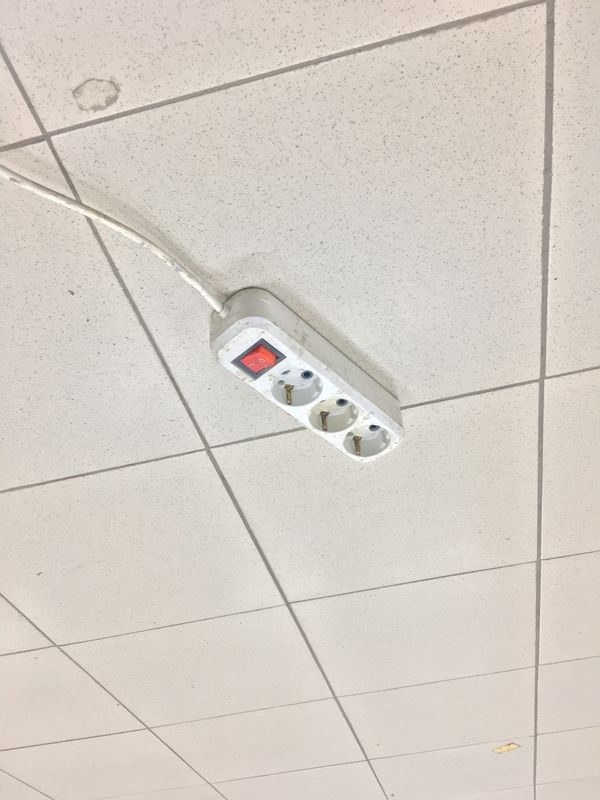socket: (198, 281, 419, 472)
